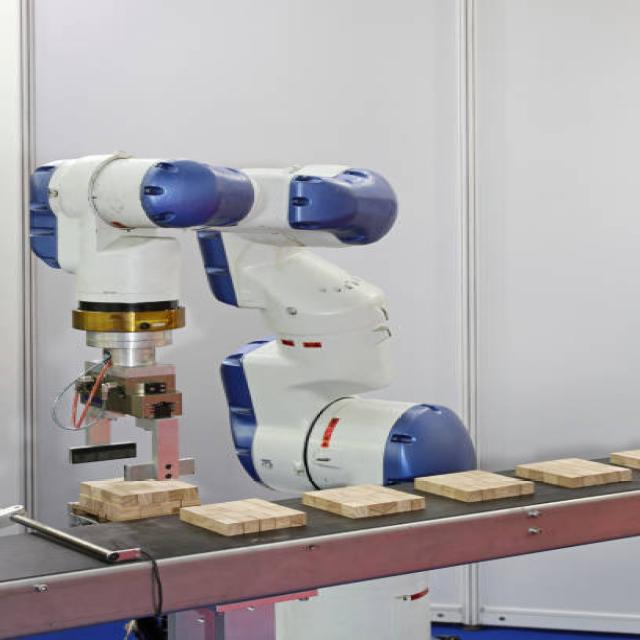Robotic-arm: (23, 145, 479, 496)
